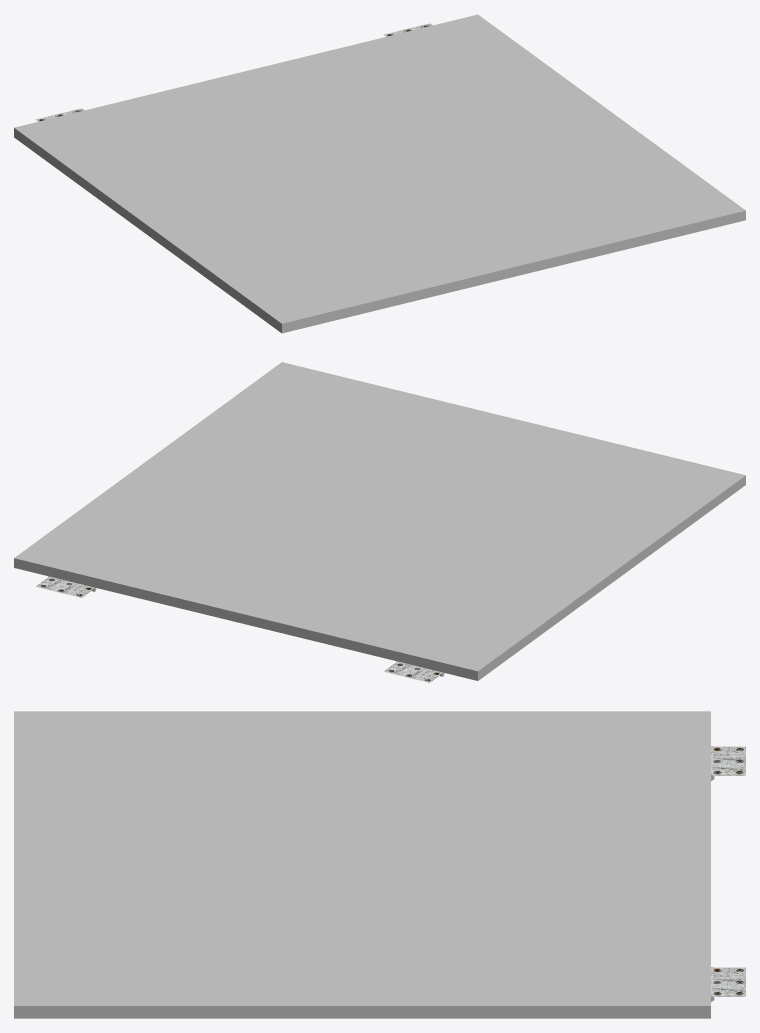
The model's file is trapdoor_wood.fbx.
3 views of the same model, one above another, from view 1: azimuth 30°, elevation 25°; view 2: azimuth 150°, elevation 25°; view 3: azimuth 270°, elevation 25° (orthographic). The views are drawn at different scales.
Visible parts, largest first — view 1: trapdoor_body; view 2: trapdoor_body, trapdoor_hingeplates; view 3: trapdoor_body, trapdoor_hingeplates.
Boxes of the visible parts, x1,y1,x2,y2 form: trapdoor_body: [14, 14, 745, 333]; trapdoor_body: [14, 362, 745, 680]; trapdoor_hingeplates: [36, 577, 442, 682]; trapdoor_body: [14, 711, 714, 1018]; trapdoor_hingeplates: [713, 746, 745, 996].
Size of the model in its own units: 2 by 0.0579 by 2.1.
